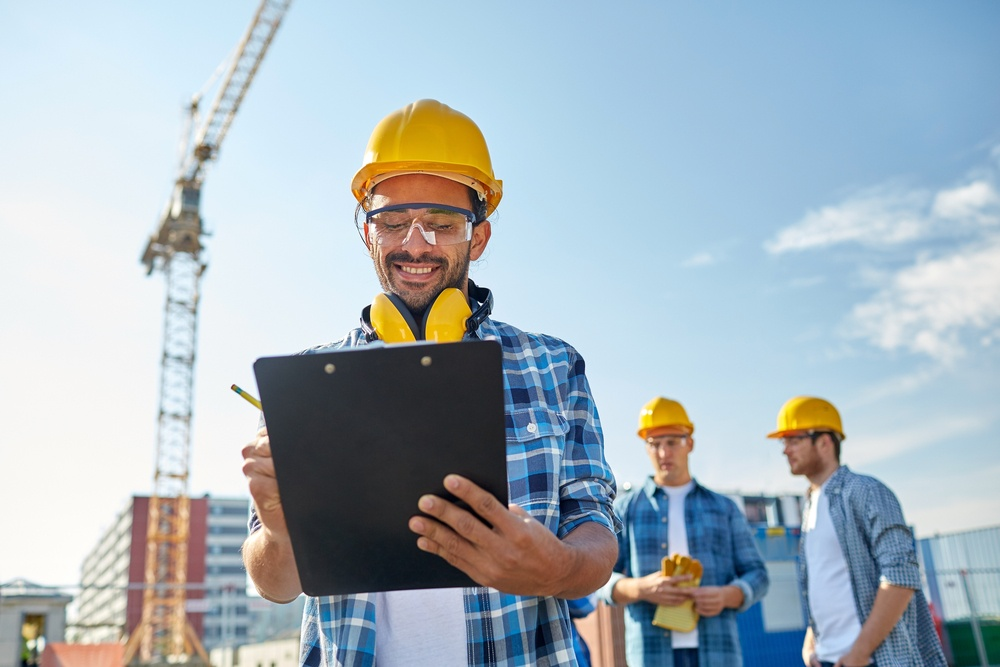yellow: (358, 101, 497, 303), (777, 394, 843, 481), (638, 395, 694, 480)
